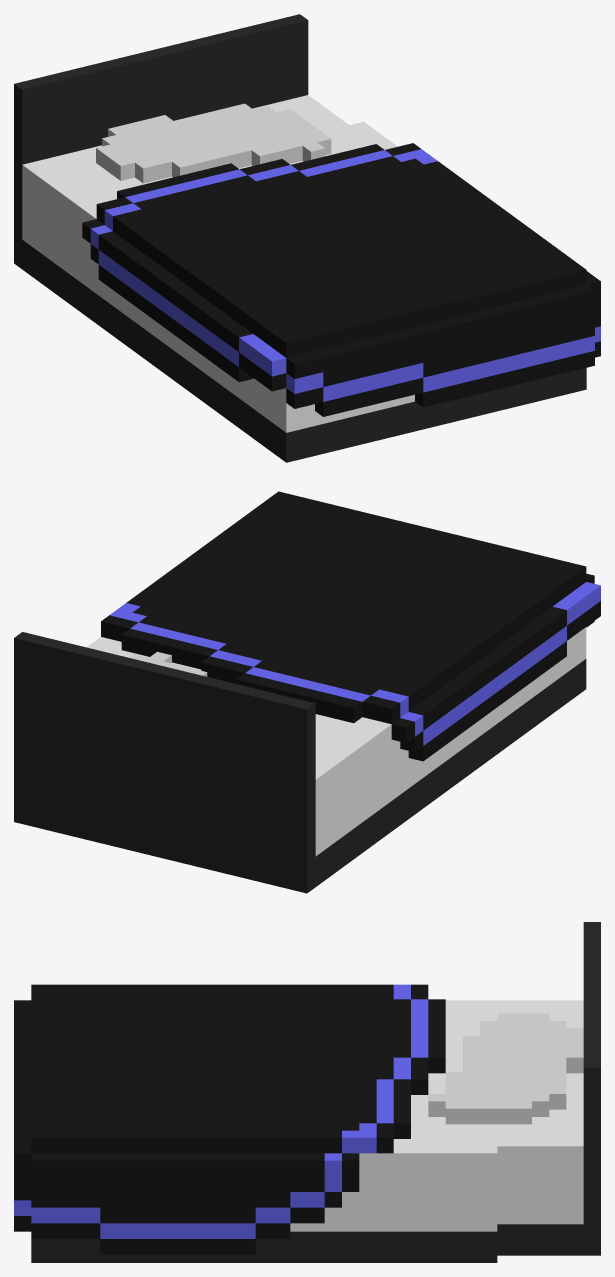
Rendered from hacker room-q-0-3.obj.
3 views of the same model, one above another, from view 1: azimuth 30°, elevation 25°; view 2: azimuth 150°, elevation 25°; view 3: azimuth 270°, elevation 25° (orthographic). The views are drawn at different scales.
Bounding box in the file's own units: 2.3 × 1.2 × 3.4.
1 material, 1 textured.
